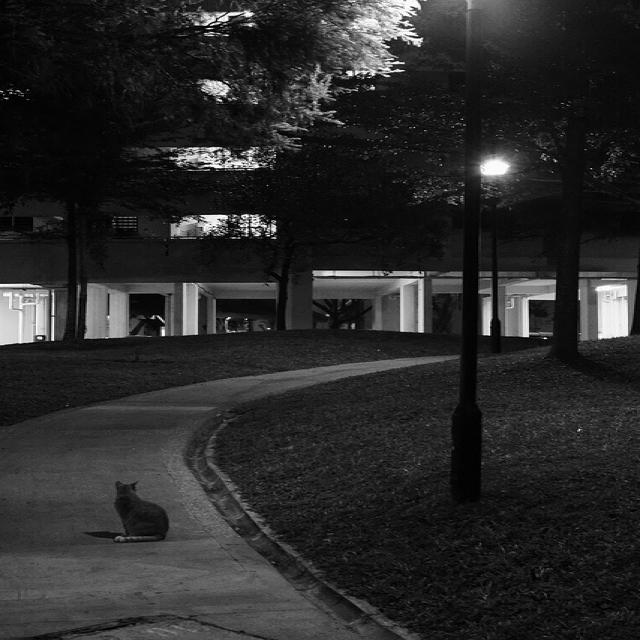Cat: (98, 467, 180, 587)
